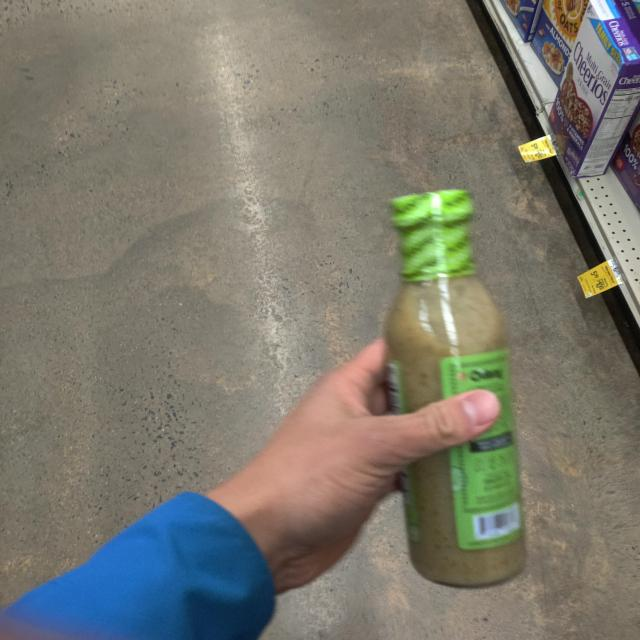Sauce: (368, 173, 544, 610)
